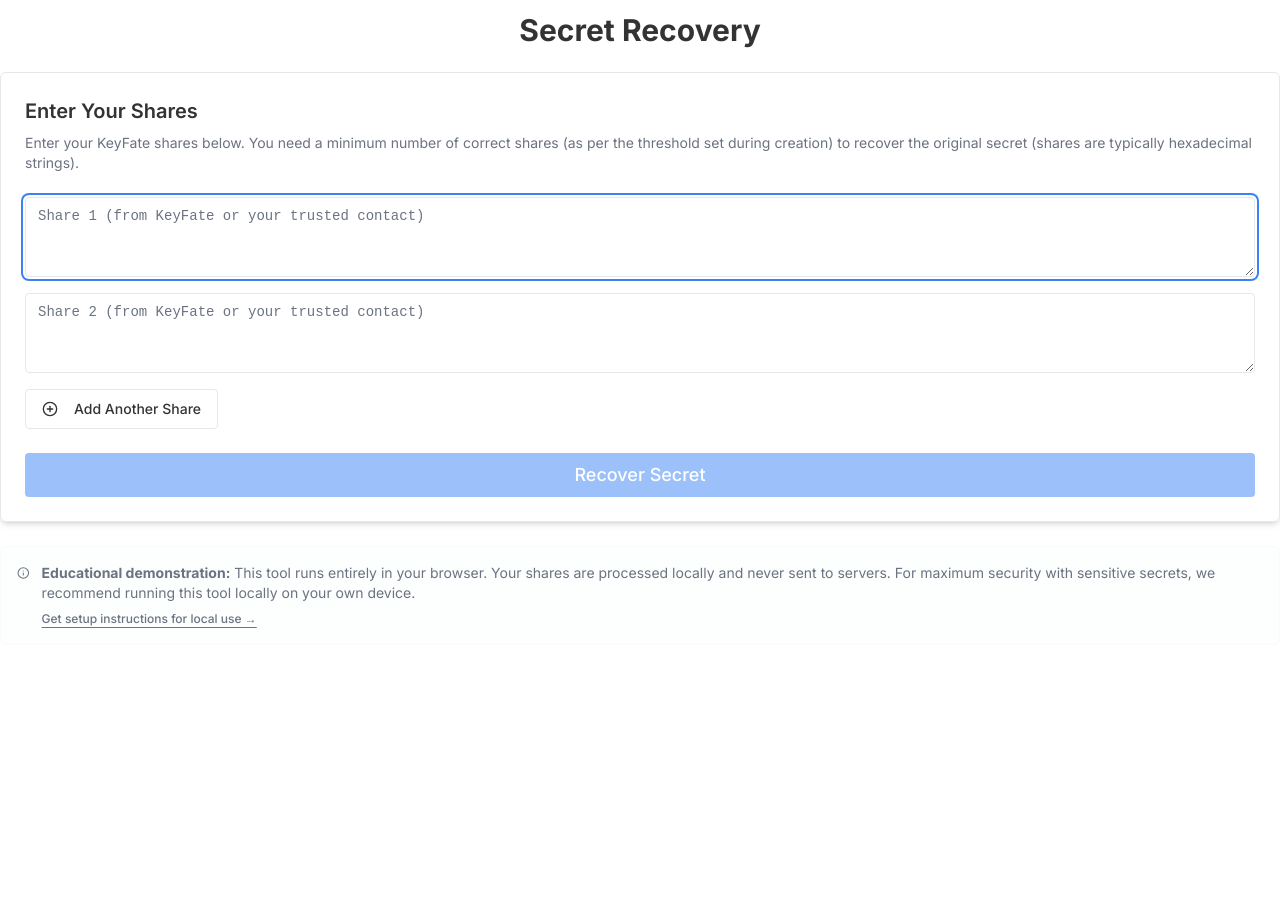
Test case: SssDecryptor › should remove share input when delete button clicked
Note: Add a third share first
What coordinates should you click on to do the following:
click the button "Add Another Share"
I would click on:
 (122, 409)
Its box is [25,389,218,429].
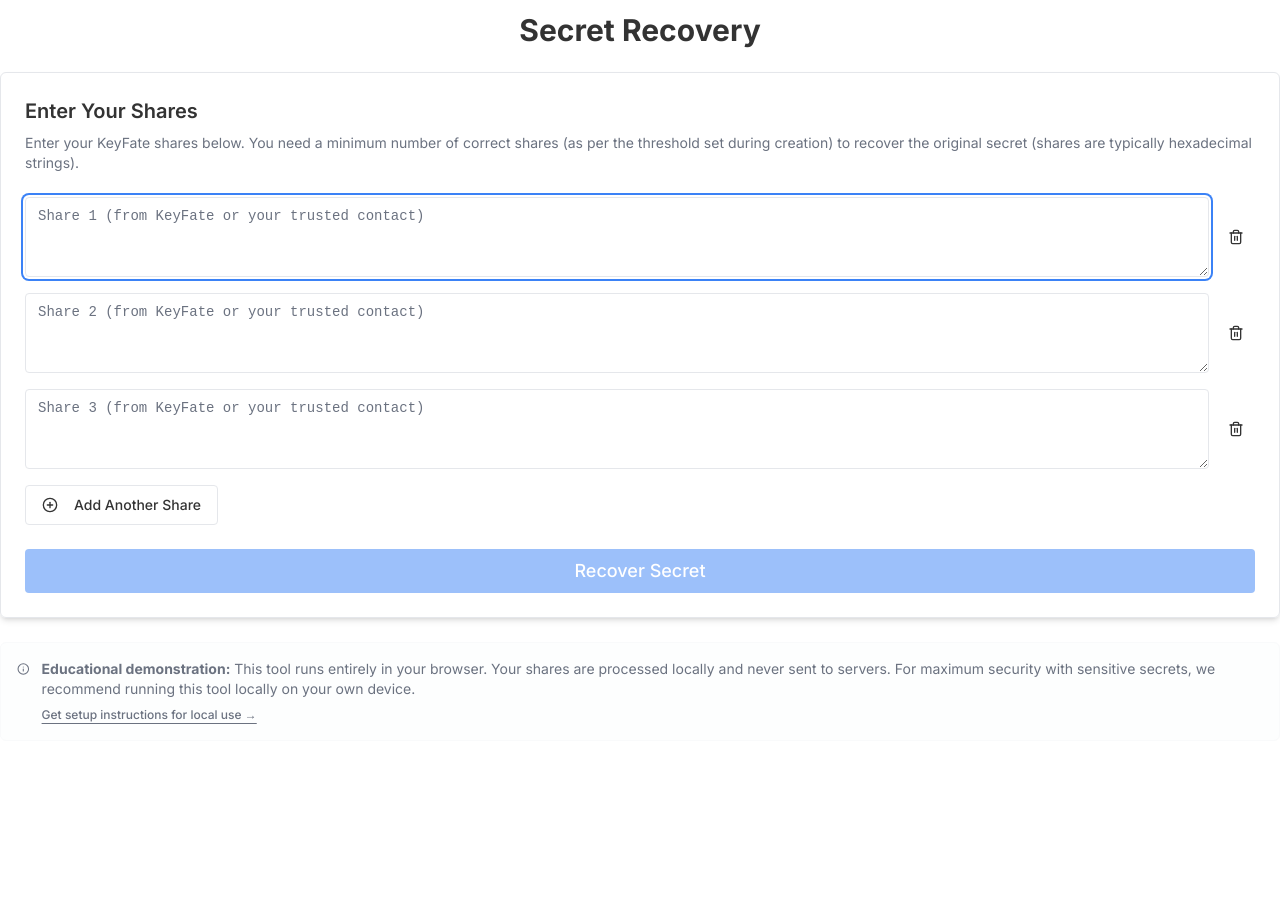
Expected: the number of buttons named "Remove share" is 3
What coordinates should you click on to do the following:
click the 1st button named "Remove share"
I would click on:
 (1236, 237)
Its box is [1216,217,1255,257].
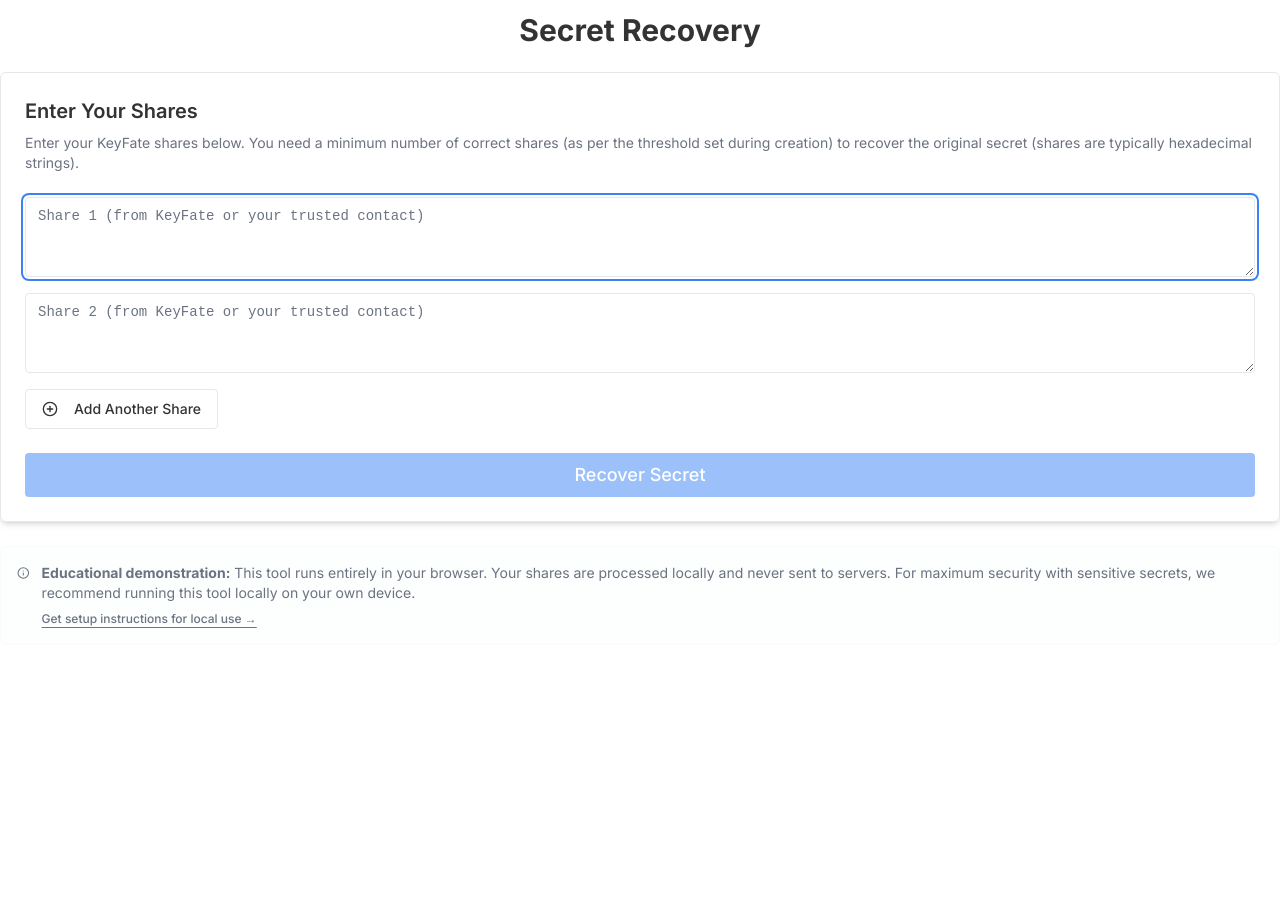
Expected: the number of text boxes with placeholder "Share 1 (from KeyFate or your trusted contact)" is 2, [25,197,1255,277]; [25,293,1255,373]
